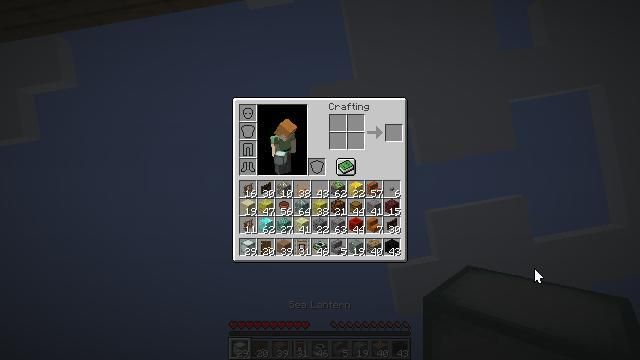cursor: (534, 268, 544, 284)
